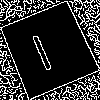I: (24, 24, 56, 73)
